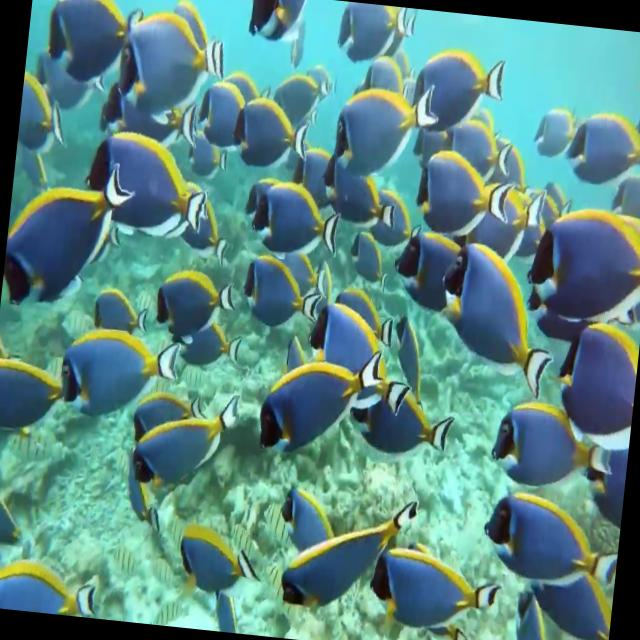fish: (0, 147, 140, 319), (421, 234, 566, 399), (275, 483, 420, 628), (76, 120, 220, 246), (254, 336, 386, 469), (57, 310, 193, 434), (520, 186, 640, 323), (109, 4, 232, 132), (478, 484, 623, 592), (127, 384, 243, 514), (486, 388, 621, 492), (328, 63, 440, 187), (362, 540, 504, 637), (553, 306, 640, 436), (298, 296, 400, 405), (410, 143, 520, 243), (354, 372, 460, 470), (40, 0, 145, 95), (246, 167, 347, 265), (226, 74, 320, 178), (314, 143, 406, 245), (166, 516, 264, 610), (412, 44, 507, 140), (149, 260, 240, 350), (390, 216, 469, 316), (235, 251, 324, 335), (557, 107, 640, 194), (0, 551, 105, 618), (0, 345, 67, 442), (272, 478, 348, 560), (332, 1, 412, 72), (190, 63, 247, 152), (527, 97, 579, 161), (272, 66, 330, 123), (368, 187, 414, 256), (0, 474, 37, 558), (243, 0, 306, 47)
